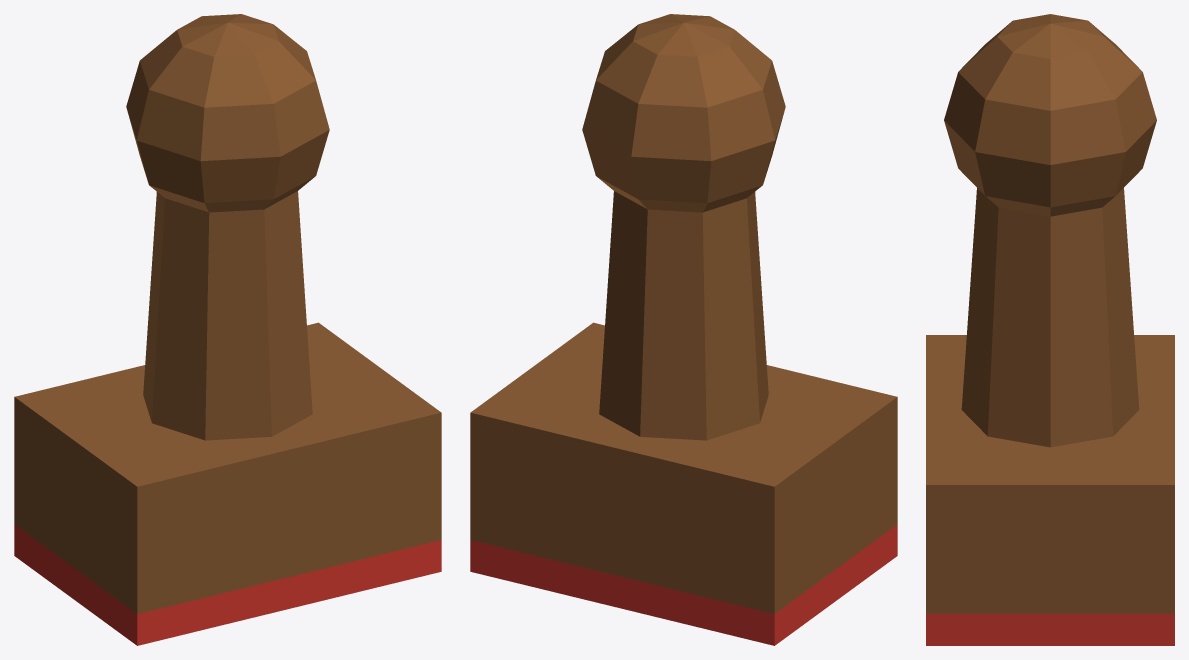
File: theater_stamp.glb
3 renders of one model, left to right at view 1: azimuth 30°, elevation 25°; view 2: azimuth 150°, elevation 25°; view 3: azimuth 270°, elevation 25°, orthographic.
Parts seen in each view (by area): view 1: block_stamp_wood, handle_stamp_wood, knob_stamp_wood, rubber_stamp_red; view 2: block_stamp_wood, handle_stamp_wood, knob_stamp_wood, rubber_stamp_red; view 3: block_stamp_wood, handle_stamp_wood, knob_stamp_wood, rubber_stamp_red.
Part boxes in pixels (bbox=[...]): block_stamp_wood: bbox=[14, 322, 441, 613]; handle_stamp_wood: bbox=[143, 191, 312, 440]; knob_stamp_wood: bbox=[126, 14, 329, 212]; rubber_stamp_red: bbox=[14, 524, 441, 645]; block_stamp_wood: bbox=[470, 322, 897, 613]; handle_stamp_wood: bbox=[599, 191, 768, 440]; knob_stamp_wood: bbox=[582, 14, 785, 212]; rubber_stamp_red: bbox=[470, 524, 897, 645]; block_stamp_wood: bbox=[926, 335, 1174, 613]; handle_stamp_wood: bbox=[961, 188, 1139, 447]; knob_stamp_wood: bbox=[944, 14, 1156, 216]; rubber_stamp_red: bbox=[926, 613, 1174, 645].
Bounding box in the file's own units: 0.1 × 0.17 × 0.07.
